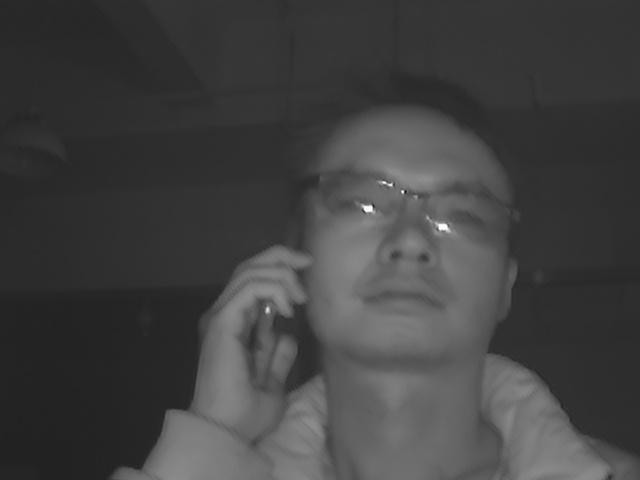hand: (188, 244, 313, 439)
